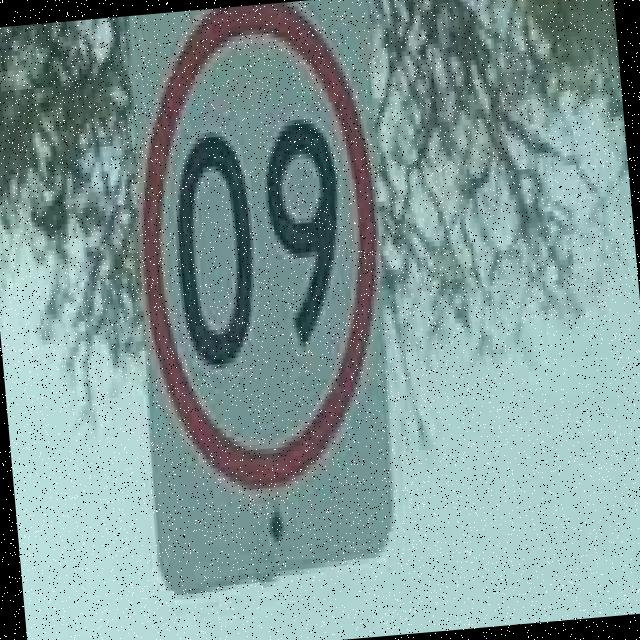speed_limit_60: (120, 0, 403, 511)
